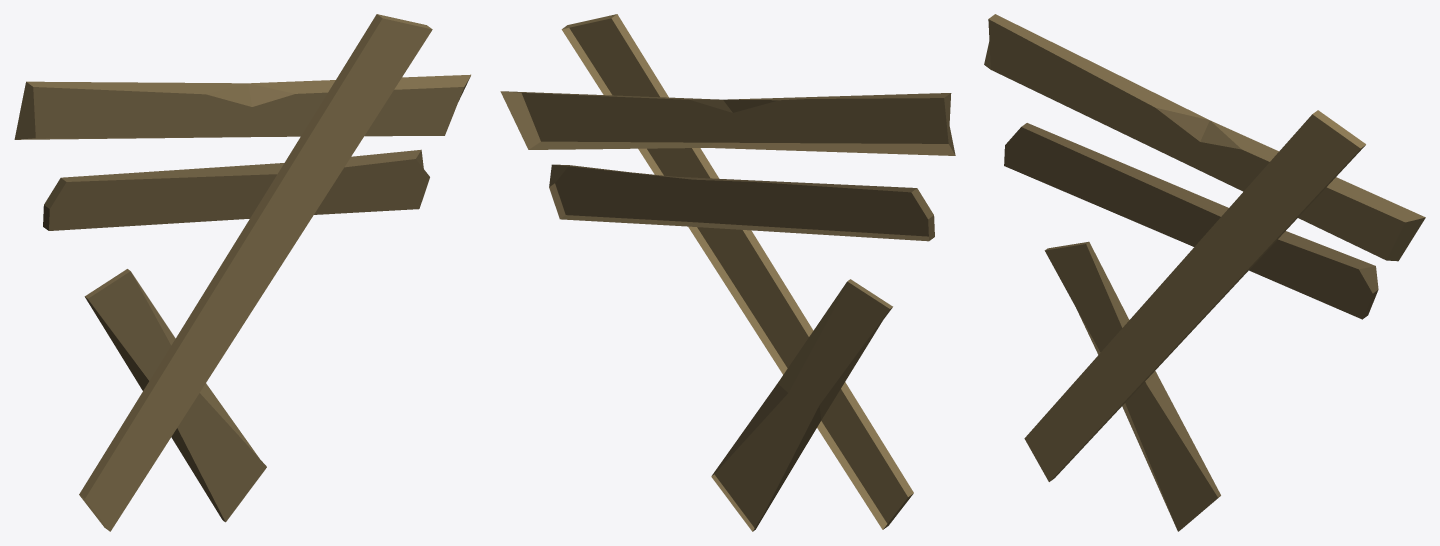
Rendered from Boards.fbx.
3 renders of one model, left to right at view 1: azimuth 30°, elevation 25°; view 2: azimuth 150°, elevation 25°; view 3: azimuth 330°, elevation 25°, orthographic. The views are drawn at different scales.
Visible parts, largest first — view 1: Boards; view 2: Boards; view 3: Boards.
Part boxes in pixels (x1=…): Boards: x1=14, y1=14, x2=470, y2=531; Boards: x1=500, y1=14, x2=955, y2=531; Boards: x1=984, y1=14, x2=1425, y2=531.
Bounding box in the file's own units: 256 × 260 × 13.94.
